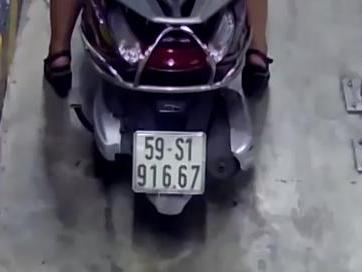num_plate: (131, 129, 208, 196)
